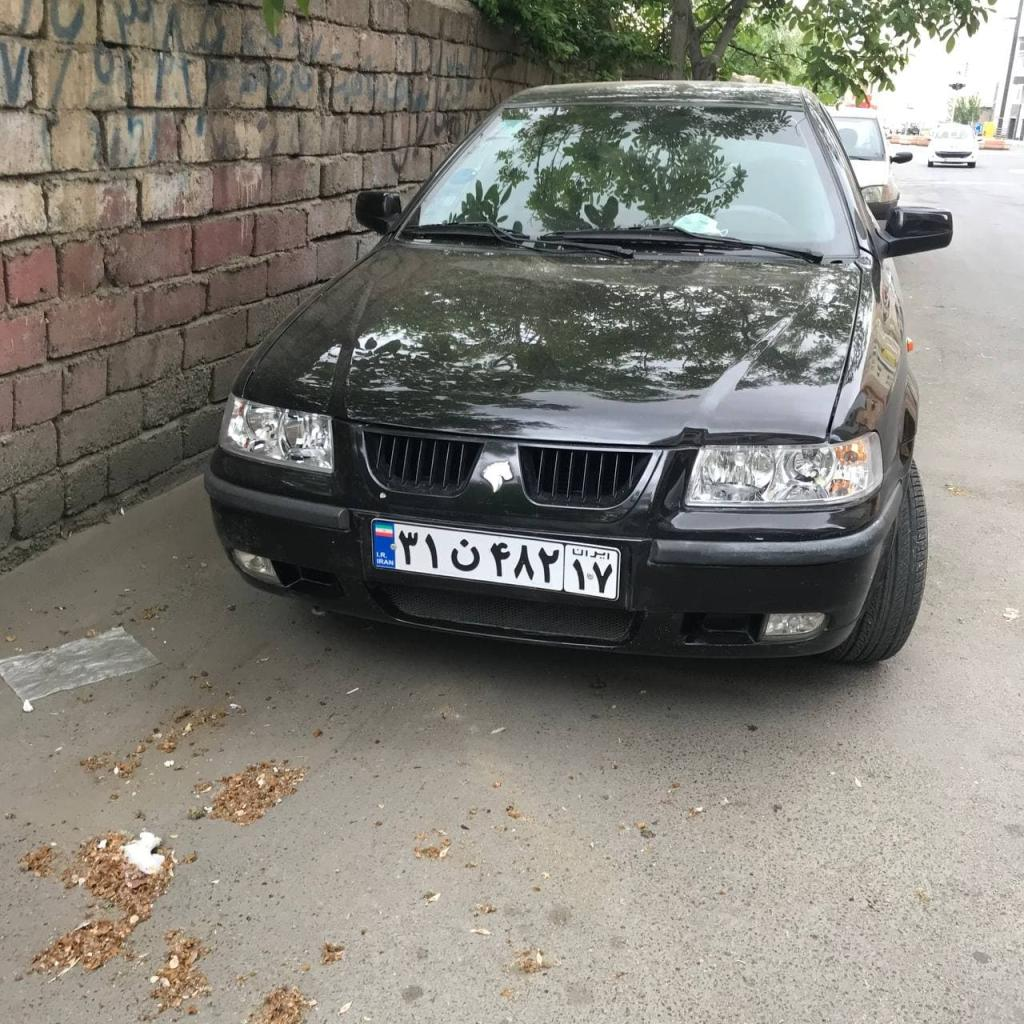Plates: (372, 520, 618, 600)
